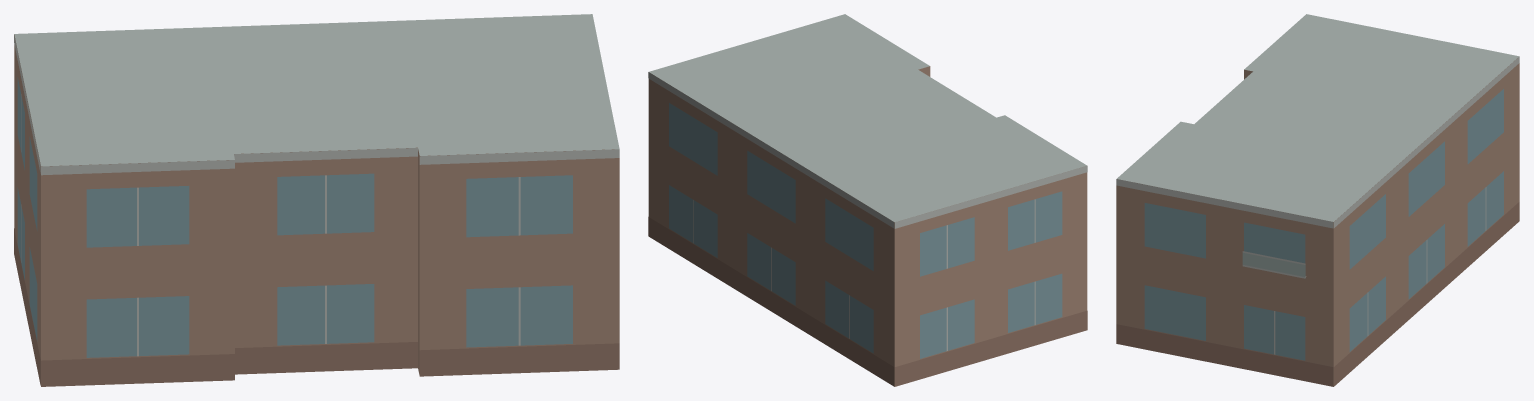
File: survey-upis-32806225.glb
3 views of the same model, side by side, from view 1: azimuth 30°, elevation 25°; view 2: azimuth 150°, elevation 25°; view 3: azimuth 270°, elevation 25° (orthographic). The views are drawn at different scales.
Visible parts, largest first — view 1: survey-upis-32806225.tmp; view 2: survey-upis-32806225.tmp; view 3: survey-upis-32806225.tmp.
Part boxes in pixels (x1,y1,x2,y2): survey-upis-32806225.tmp: (14, 14, 619, 386); survey-upis-32806225.tmp: (648, 14, 1087, 386); survey-upis-32806225.tmp: (1116, 14, 1519, 386).
Size of the model in its own units: 16.51 by 6.1 by 13.52.
